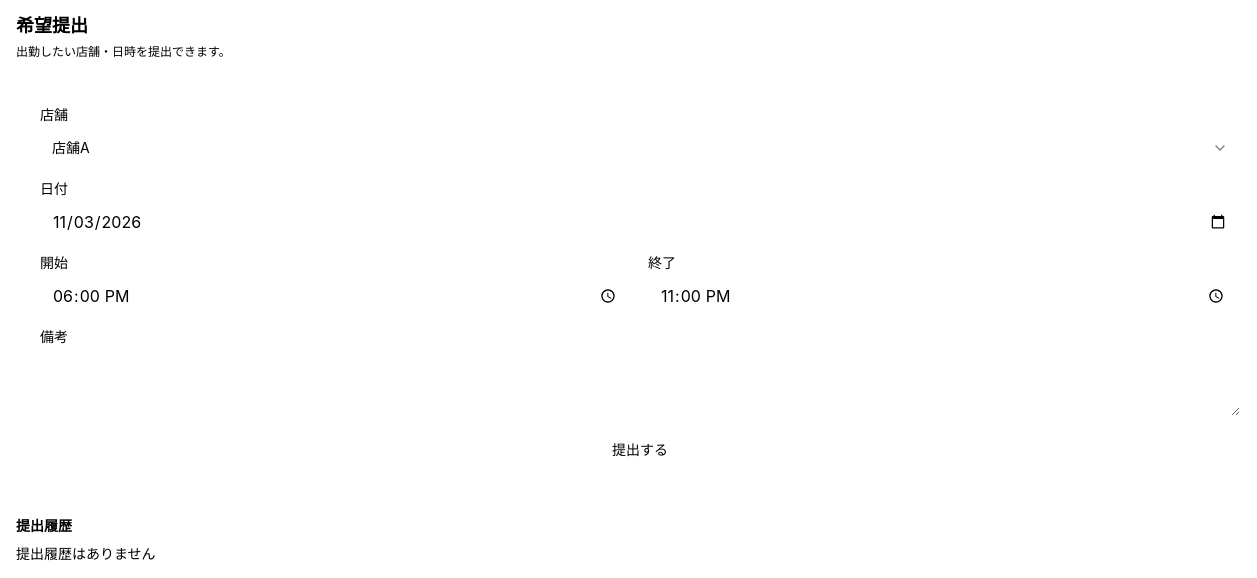
Test case: CastRequestsPage › 店舗セレクタに所属店舗一覧を表示する
The width and height of the screenshot is (1257, 578).
// 選択肢は開いている間だけ描画される。
Click the dropdown labelled "店舗" at (71, 148), box [40, 130, 1240, 166]
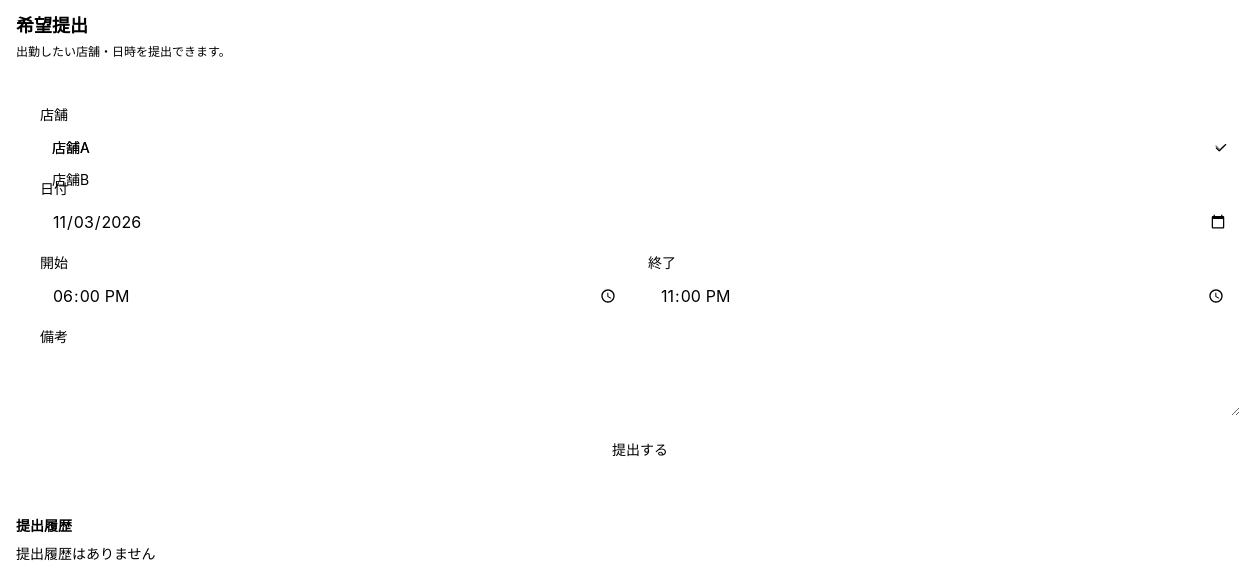
Now the option "店舗A" is shown, box [52, 139, 1228, 156]
Now the option "店舗B" is shown, box [52, 171, 89, 188]
